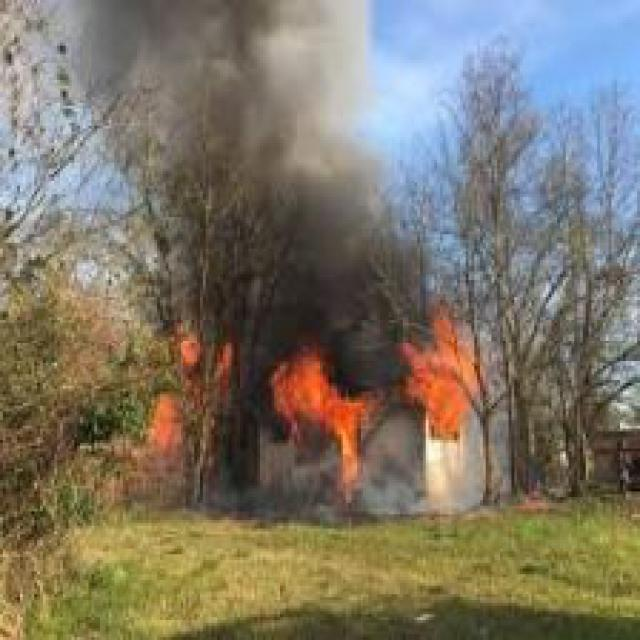fire: (257, 297, 486, 489)
